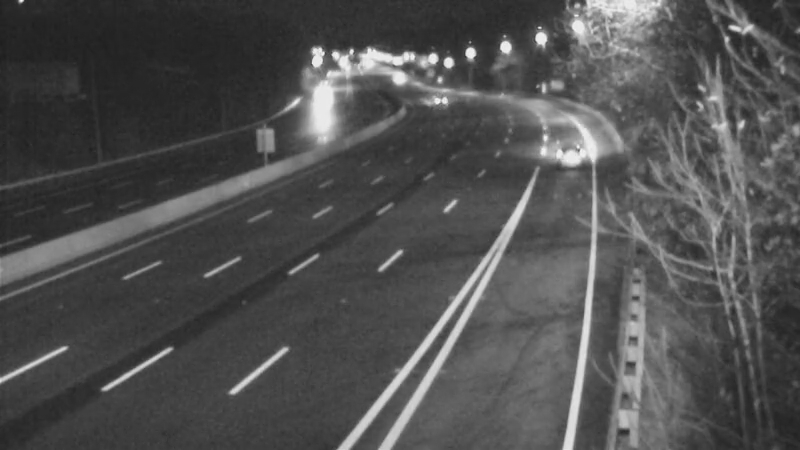vehicle: (368, 53, 418, 103), (409, 74, 459, 124), (541, 119, 591, 169), (295, 79, 345, 129)
